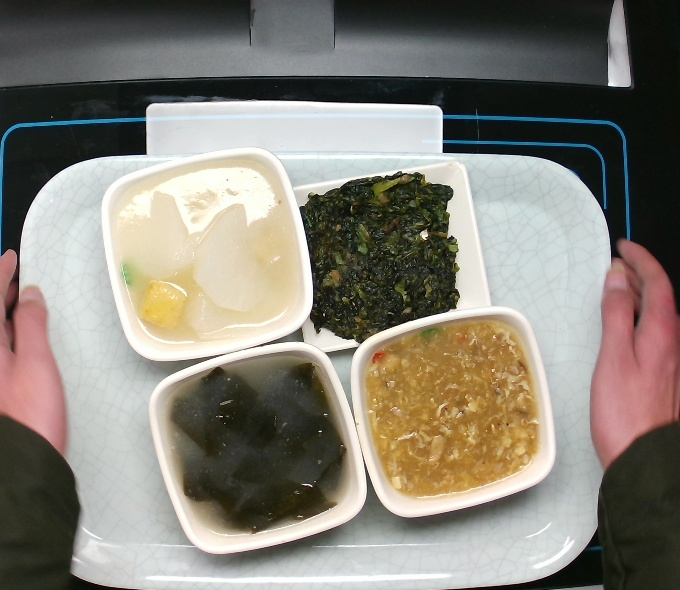wcq-HaiDaiPaiGuTang: (167, 358, 351, 536)
wcq-LuoBoYouPaoTang: (110, 153, 309, 347)
wcq-QinCaiBing: (290, 168, 462, 338)
wcq-SuanLaGeng: (361, 316, 546, 497)
